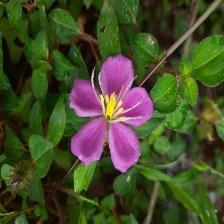malabar melastome: (68, 55, 158, 176)
